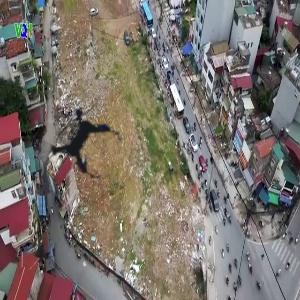drone: (16, 70, 154, 208)
